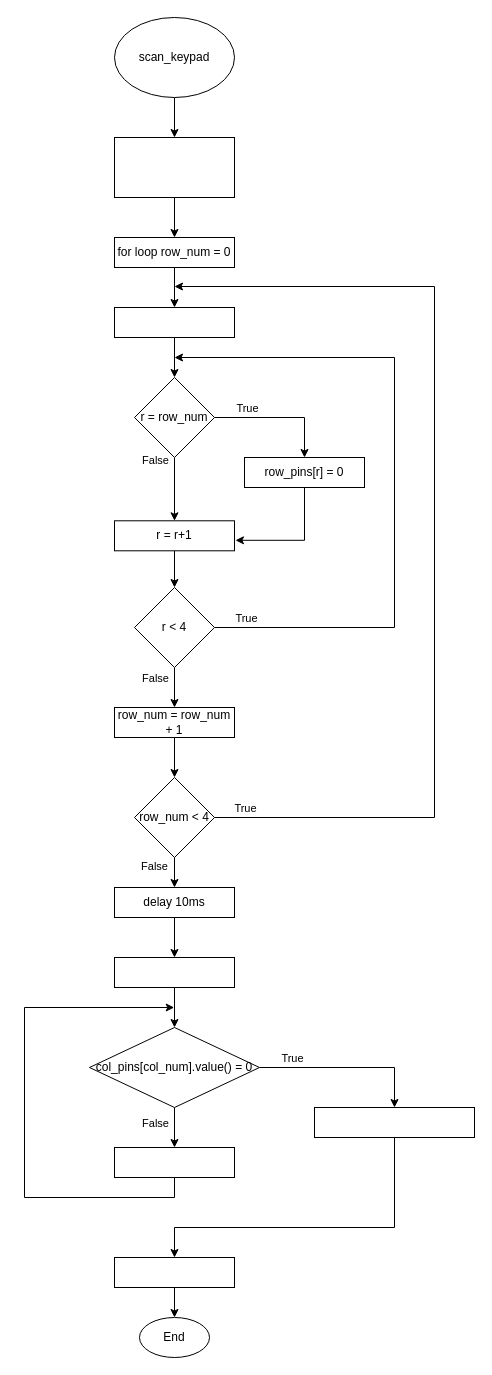
This 492x1375 diagram has some shape labels left out. Here are the shapes that lost their labels. From the top down, the box of each, then its label:
(114, 136, 234, 198): ser variable key = none row_pins = 4 col_pins = 4
(114, 306, 234, 338): for loop r = 0
(114, 956, 234, 988): for loop col_num = 0
(314, 1106, 474, 1138): key = keypad[row_num][col_num]
(114, 1146, 234, 1178): col_num = col_num + 1
(114, 1256, 234, 1288): return key
